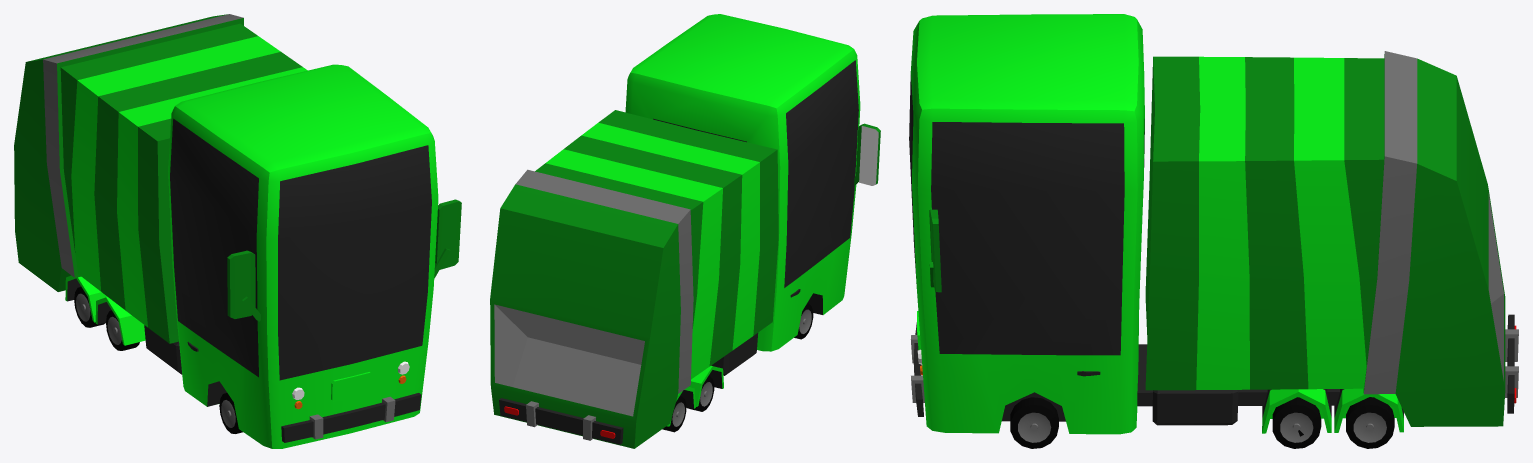
3 renders of one model, left to right at view 1: azimuth 30°, elevation 25°; view 2: azimuth 150°, elevation 25°; view 3: azimuth 270°, elevation 25°, orthographic. The views are drawn at different scales.
Visible parts, largest first — view 1: Cube, Cube.004, Cube.001, Cube.003, Cube.002, Cylinder.002, Cylinder.005, Cylinder.003; view 2: Cube.004, Cube, Cube.001, Cube.002, Cylinder.005, Cylinder.003, Cylinder.002; view 3: Cube.004, Cube, Cube.002, Cylinder, Cylinder.004, Cylinder.001, Cube.001, Cube.003.
Boxes of the visible parts, left/top/right/bottom form: Cube: left=65, top=64, right=438, bottom=448; Cube.004: left=14, top=14, right=307, bottom=343; Cube.001: left=227, top=199, right=461, bottom=321; Cube.003: left=281, top=361, right=421, bottom=442; Cube.002: left=144, top=325, right=182, bottom=374; Cylinder.002: left=219, top=393, right=242, bottom=433; Cylinder.005: left=74, top=286, right=105, bottom=327; Cylinder.003: left=106, top=310, right=139, bottom=350; Cube.004: left=490, top=110, right=778, bottom=448; Cube: left=625, top=14, right=860, bottom=426; Cube.001: left=854, top=123, right=880, bottom=185; Cube.002: left=711, top=333, right=758, bottom=375; Cylinder.005: left=662, top=396, right=686, bottom=432; Cylinder.003: left=686, top=376, right=714, bottom=411; Cylinder.002: left=794, top=303, right=813, bottom=339; Cube.004: left=1145, top=51, right=1518, bottom=426; Cube: left=909, top=14, right=1403, bottom=434; Cube.002: left=1137, top=344, right=1339, bottom=425; Cylinder: left=1010, top=397, right=1058, bottom=448; Cylinder.004: left=1346, top=397, right=1394, bottom=448; Cylinder.001: left=1272, top=397, right=1321, bottom=448; Cube.001: left=929, top=209, right=941, bottom=292; Cube.003: left=910, top=322, right=924, bottom=416.
Bounding box in the file's own units: 170 × 212 × 333.
Materials: 1 (1 with a texture image).
